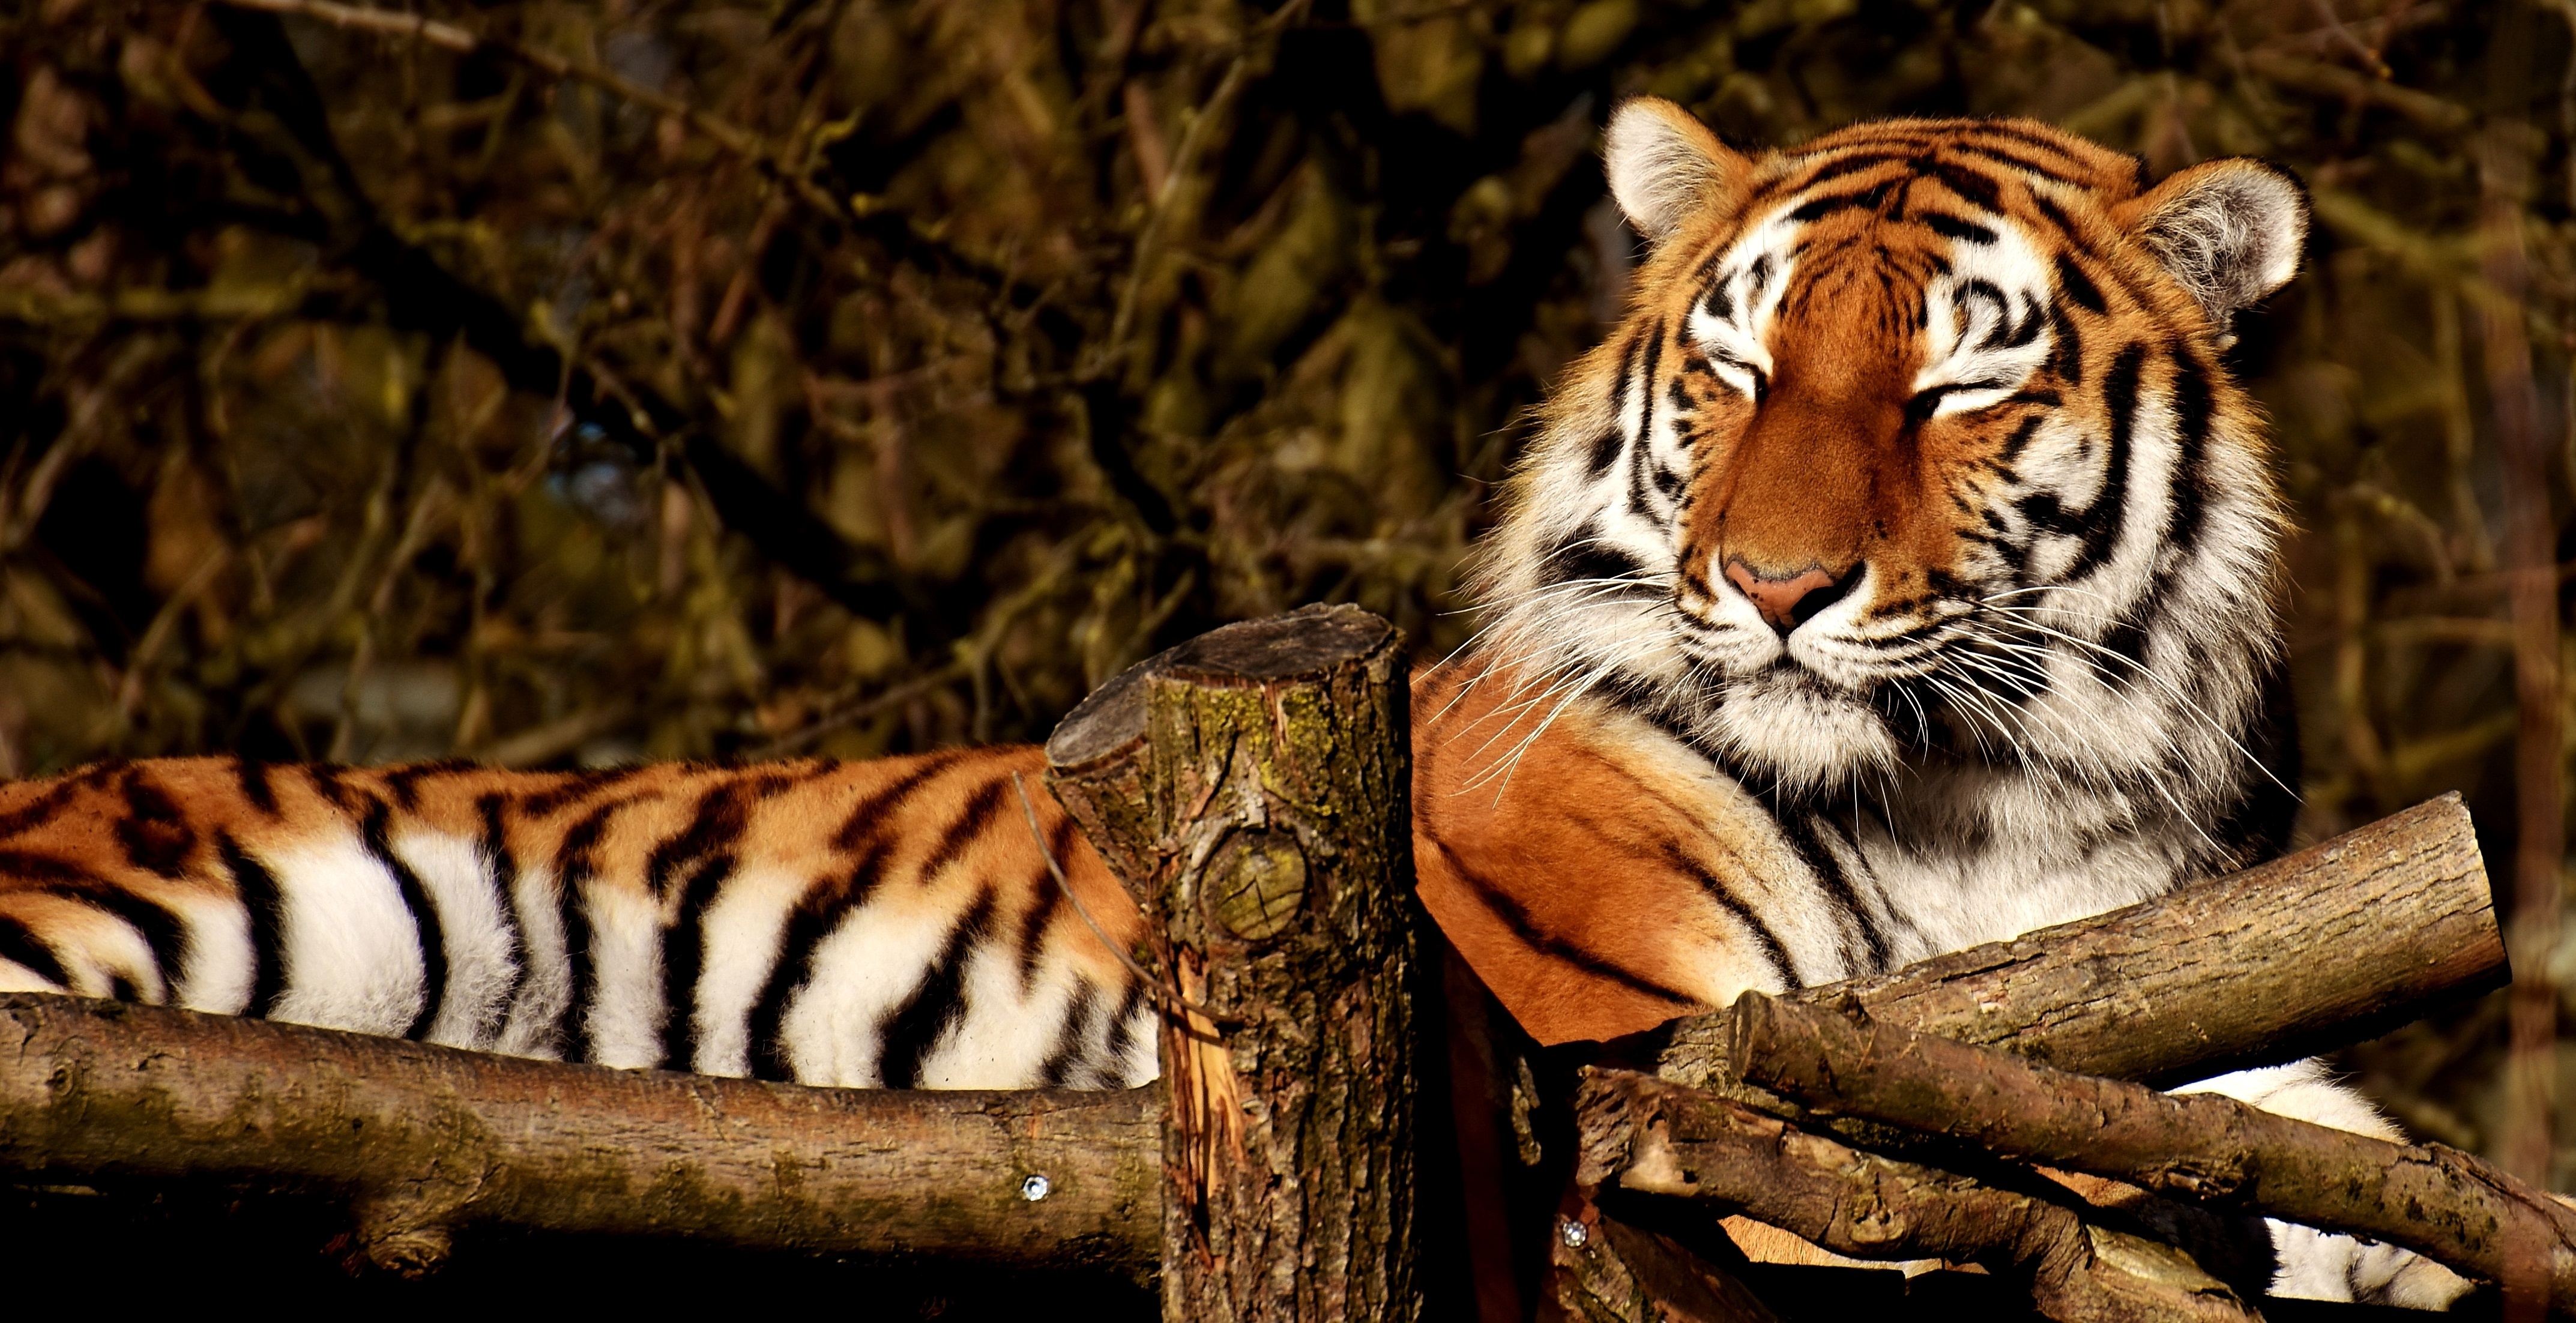tiger: (94, 96, 2455, 1132)
